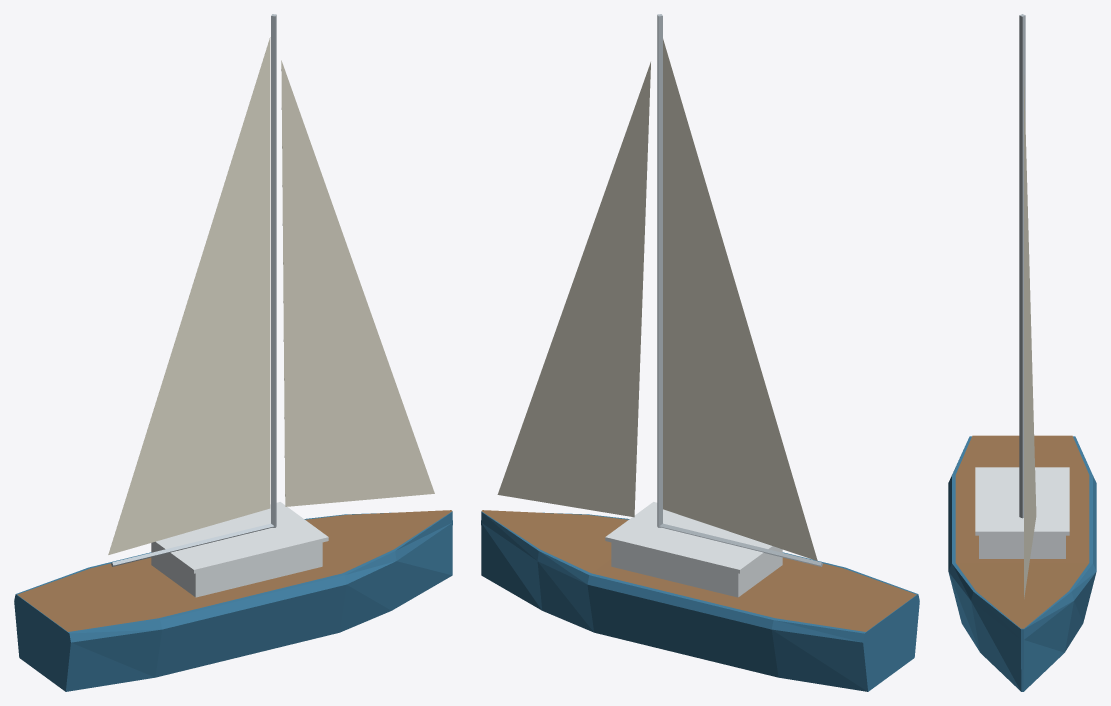
The model's file is sailboat_lod2.glb.
The picture shows the model from 3 angles, left to right: view 1: azimuth 30°, elevation 25°; view 2: azimuth 150°, elevation 25°; view 3: azimuth 270°, elevation 25°; orthographic projection. The views are drawn at different scales.
Parts seen in each view (by area): view 1: body; view 2: body; view 3: body.
Part boxes in pixels (left/top/right/bottom): body: left=14, top=14, right=452, bottom=691; body: left=481, top=14, right=919, bottom=691; body: left=948, top=14, right=1096, bottom=691.
Size of the model in its own units: 10 by 14.08 by 3.2.
